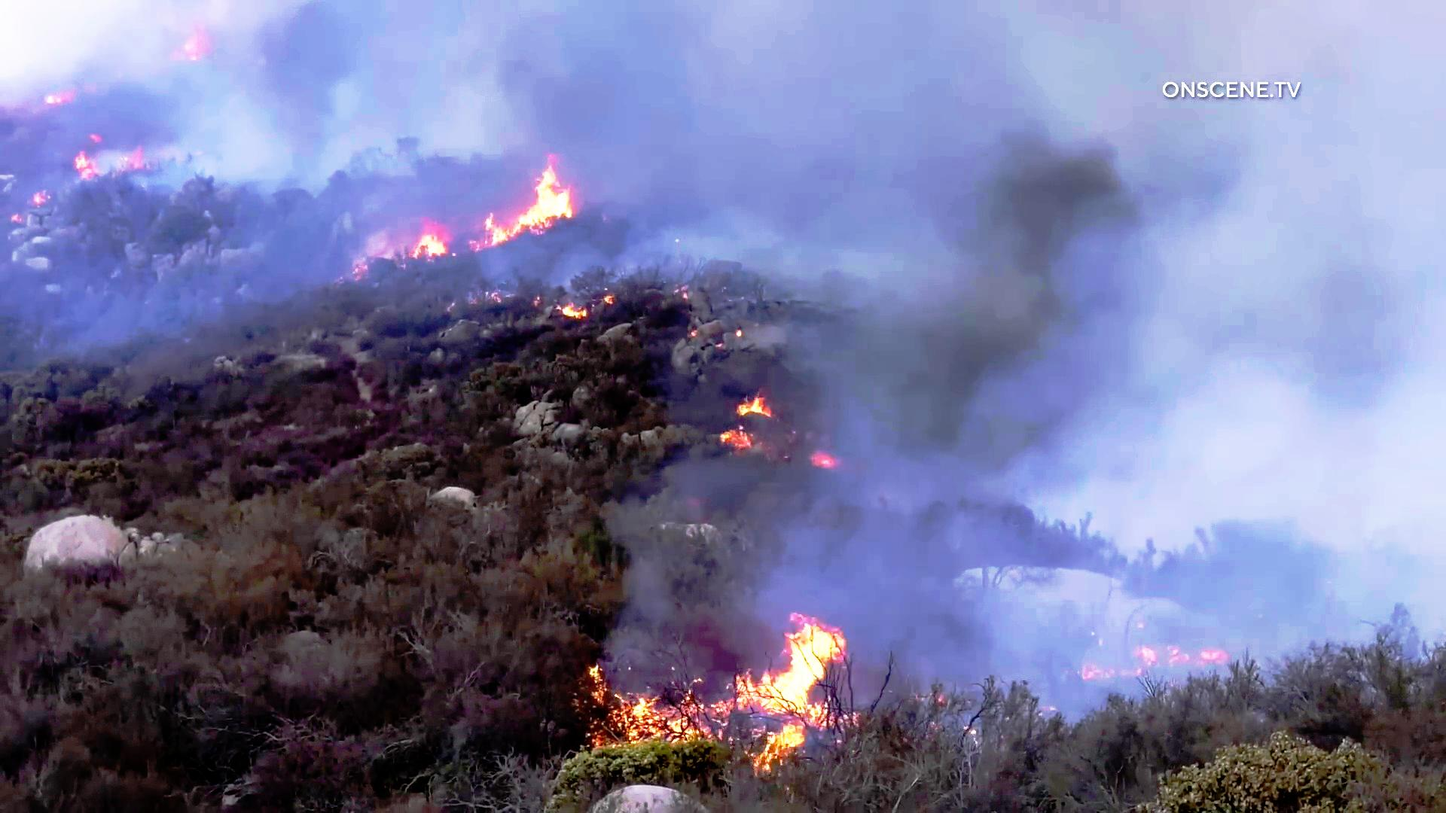fire: (569, 604, 859, 748)
smoke: (953, 165, 1178, 484), (477, 156, 597, 238)
